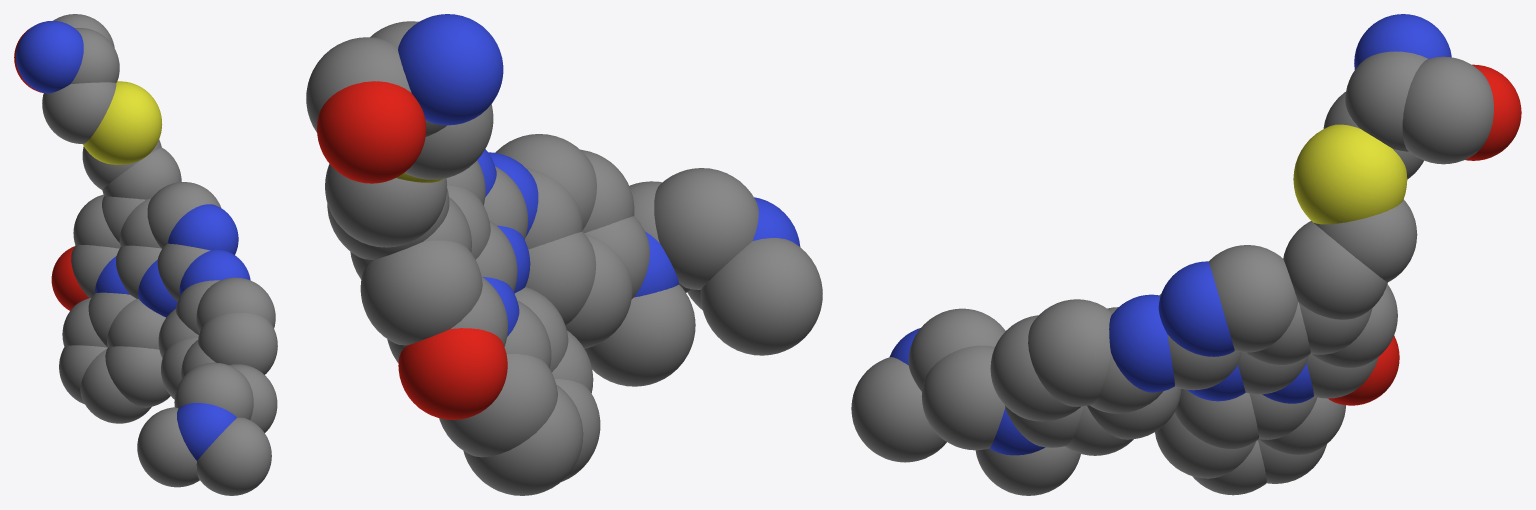
File: 9S3X-ligand.glb
3 views of the same model, side by side, from view 1: azimuth 30°, elevation 25°; view 2: azimuth 150°, elevation 25°; view 3: azimuth 270°, elevation 25° (orthographic). The views are drawn at different scales.
Size of the model in its own units: 8.98 by 16.36 by 21.18.
